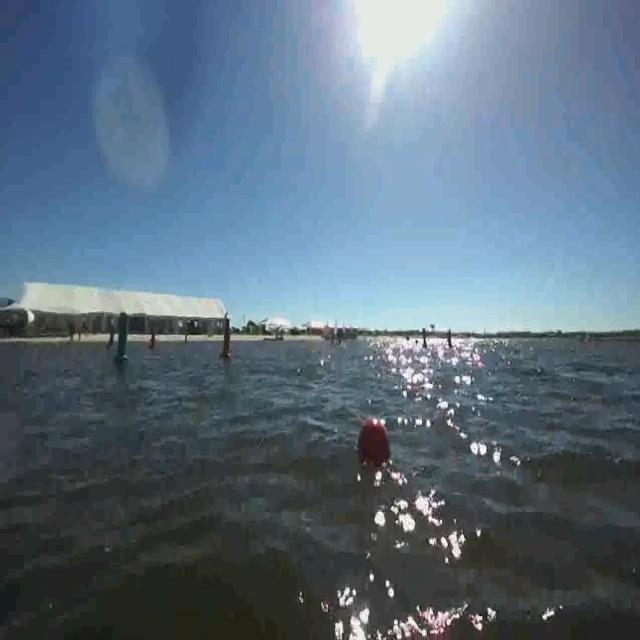green-column-buoy: (112, 314, 132, 366)
red-buoy: (358, 412, 392, 468)
red-column-buoy: (219, 320, 234, 363), (149, 328, 157, 352)
